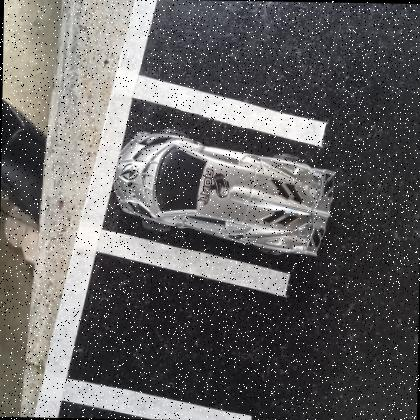Car: (112, 129, 334, 254)
